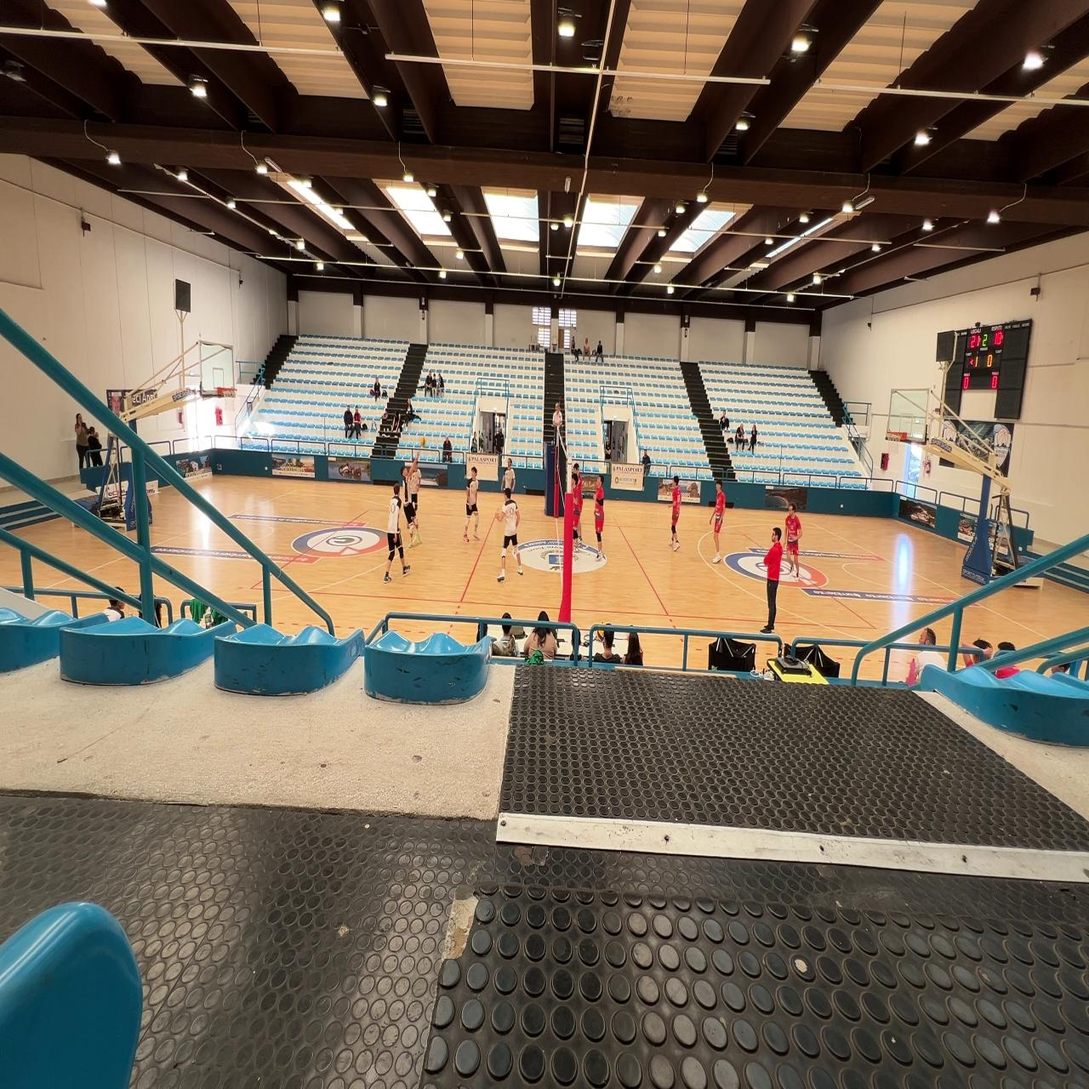ball: (420, 437, 426, 447)
